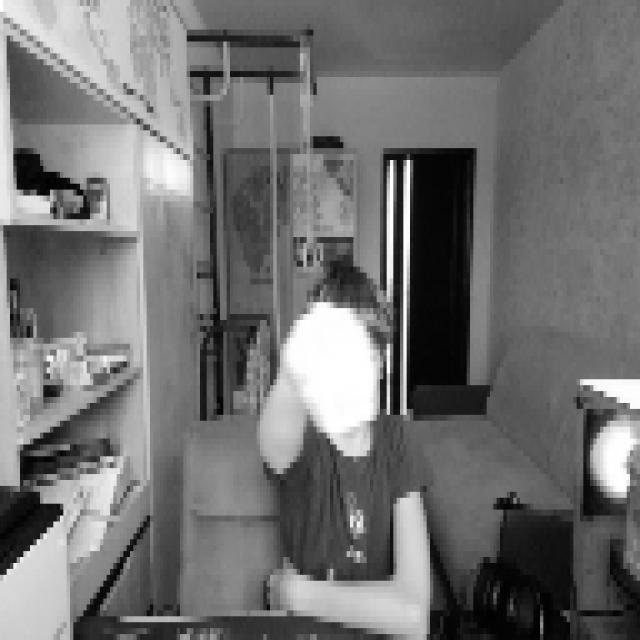left_click: (283, 290, 377, 432)
